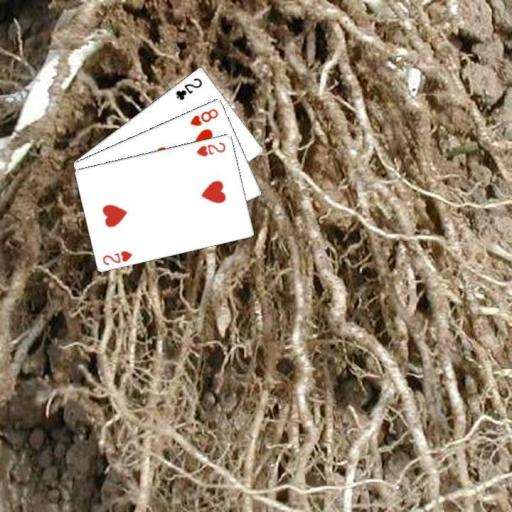2C: (172, 74, 203, 102)
2H: (194, 139, 228, 158), (100, 248, 134, 267)
8H: (186, 106, 220, 128)
